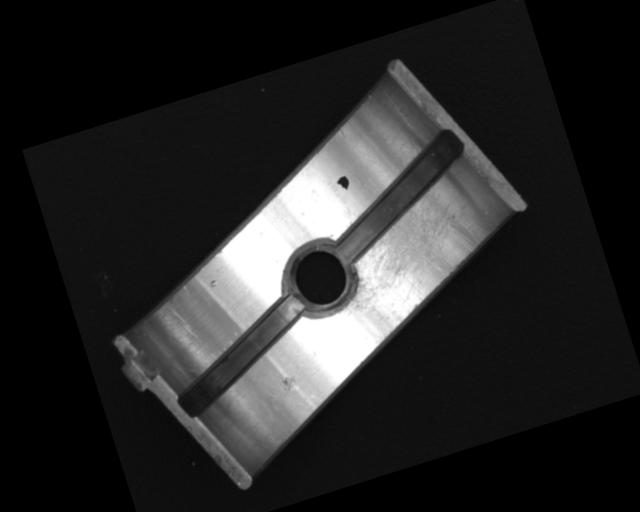blot: (334, 173, 352, 193)
bruise: (280, 373, 299, 393), (207, 278, 219, 289)
gap: (313, 126, 486, 265), (157, 293, 326, 420)
hole: (276, 232, 364, 326)
nick: (161, 296, 198, 346)
scratch: (312, 187, 486, 350)
